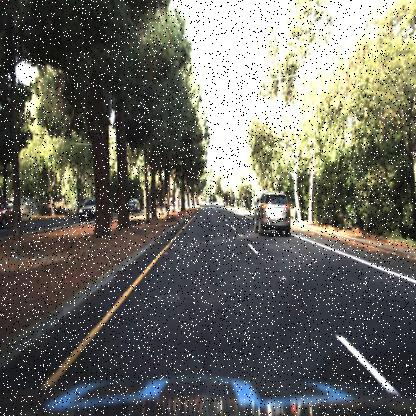car: (254, 192, 290, 236), (78, 198, 97, 219), (127, 196, 141, 212)
